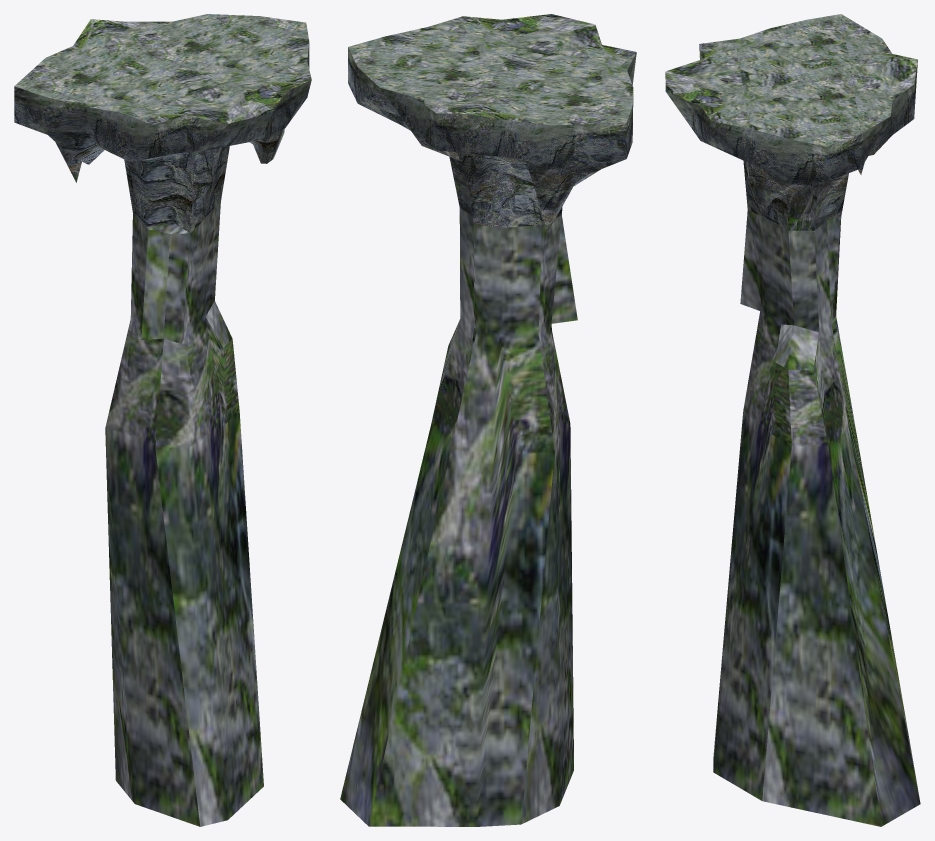
3 renders of one model, left to right at view 1: azimuth 30°, elevation 25°; view 2: azimuth 150°, elevation 25°; view 3: azimuth 270°, elevation 25°, orthographic. The views are drawn at different scales.
Visible parts, largest first — view 1: Box298; view 2: Box298; view 3: Box298.
Part boxes in pixels (bbox=[...]): Box298: bbox=[14, 14, 311, 826]; Box298: bbox=[340, 14, 636, 826]; Box298: bbox=[665, 14, 920, 826].
Bounding box in the file's own units: 314 × 771 × 255.
